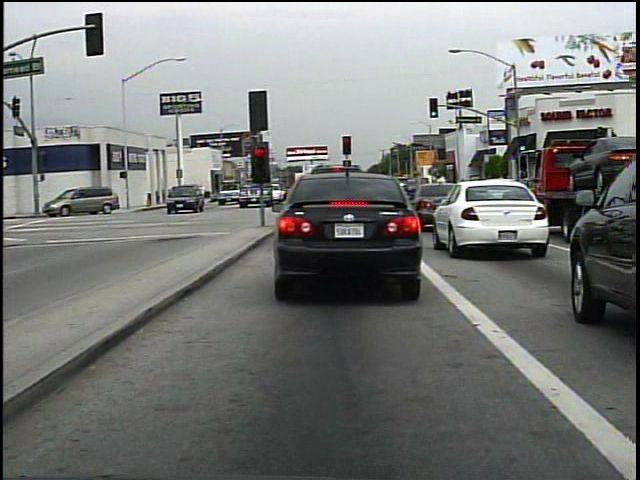person: (191, 179, 213, 204)
